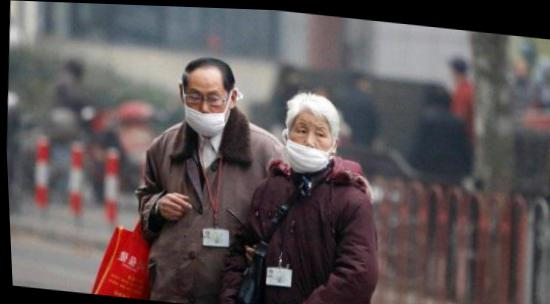WRONG: (284, 114, 335, 172), (182, 75, 229, 136)
